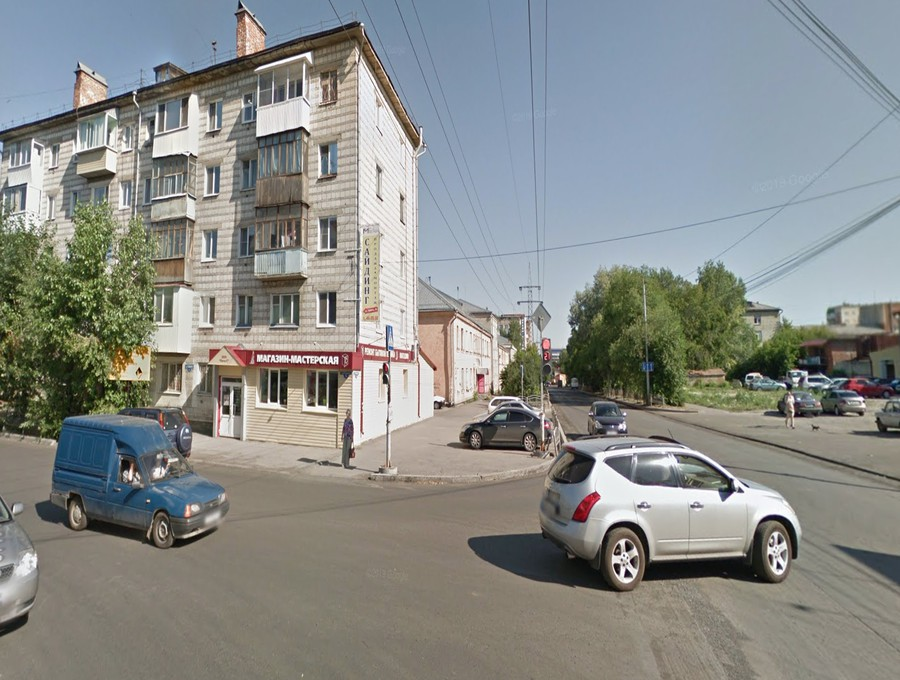Traffic Light-red: (379, 355, 392, 386)
